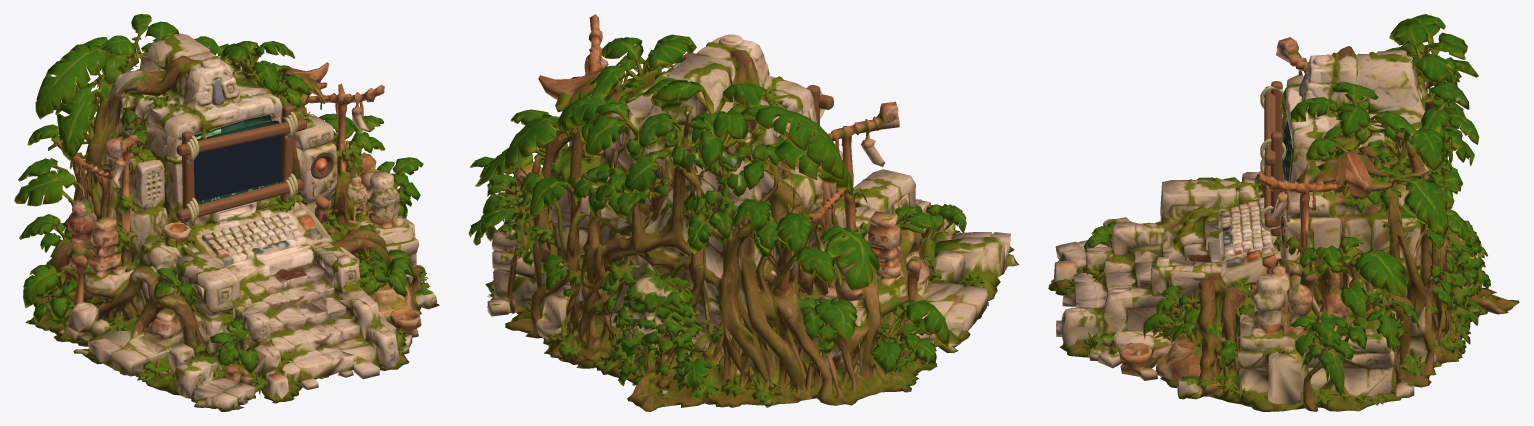
The model's file is JungleComputer_B_screen.v2.glb.
3 renders of one model, left to right at view 1: azimuth 30°, elevation 25°; view 2: azimuth 150°, elevation 25°; view 3: azimuth 270°, elevation 25°, orthographic. The views are drawn at different scales.
Visible parts, largest first — view 1: JungleComputer, kfb_screen_frame, kfb_screen_slot, kfb_screen_idle; view 2: JungleComputer, kfb_screen_frame; view 3: JungleComputer, kfb_screen_frame.
Part boxes in pixels (x1=…): JungleComputer: x1=14, y1=14, x2=439, y2=411; kfb_screen_frame: x1=176, y1=104, x2=306, y2=225; kfb_screen_slot: x1=194, y1=135, x2=281, y2=201; kfb_screen_idle: x1=197, y1=119, x2=280, y2=204; JungleComputer: x1=468, y1=14, x2=1018, y2=411; kfb_screen_frame: x1=683, y1=52, x2=833, y2=125; JungleComputer: x1=1048, y1=14, x2=1519, y2=411; kfb_screen_frame: x1=1260, y1=81, x2=1286, y2=236.
Size of the model in its own units: 1.87 by 1.11 by 1.79.
5 materials, 2 textured.
